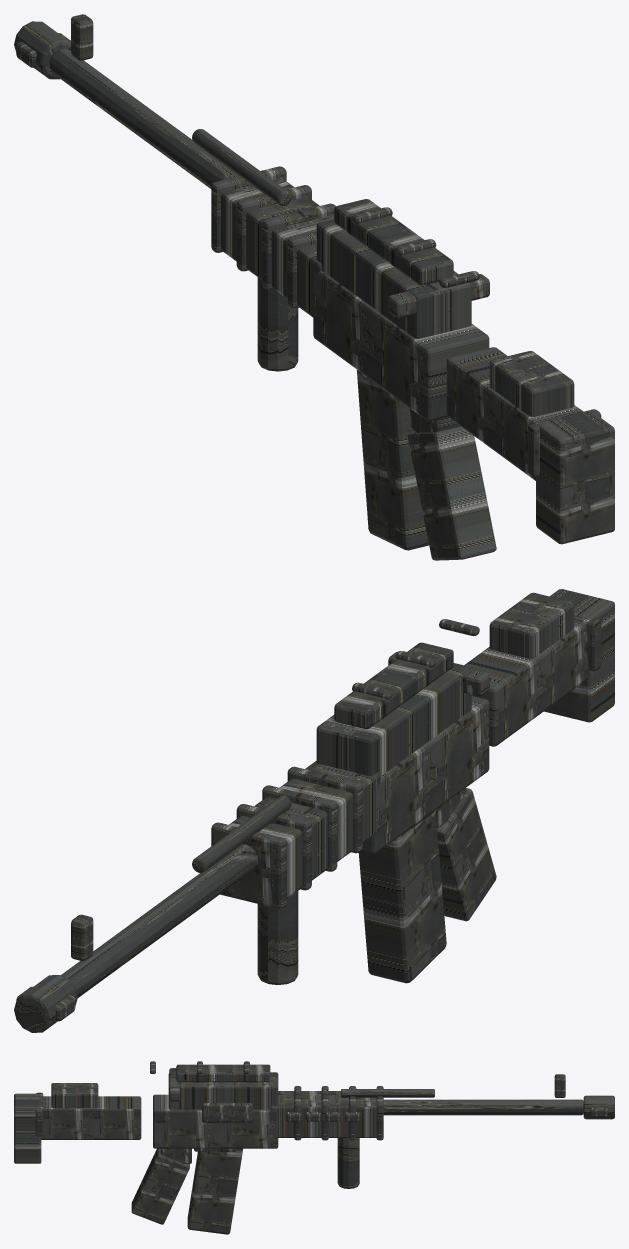
Rendered from rifle.glb.
The picture shows the model from 3 angles, top to bottom: view 1: azimuth 30°, elevation 25°; view 2: azimuth 150°, elevation 25°; view 3: azimuth 270°, elevation 25°; orthographic projection. The views are drawn at different scales.
Parts seen in each view (by area): view 1: rifle_body, magazine; view 2: rifle_body, magazine; view 3: rifle_body, magazine.
Boxes of the visible parts, x1,y1,x2,y2 form: rifle_body: (14,14,614,560); magazine: (356,369,428,550); rifle_body: (14,589,614,1032); magazine: (358,811,446,983); rifle_body: (14,1061,614,1224); magazine: (187,1148,242,1234).
Size of the model in its own units: 0.075 by 0.2317 by 0.7675.
4 materials, 4 textured.
